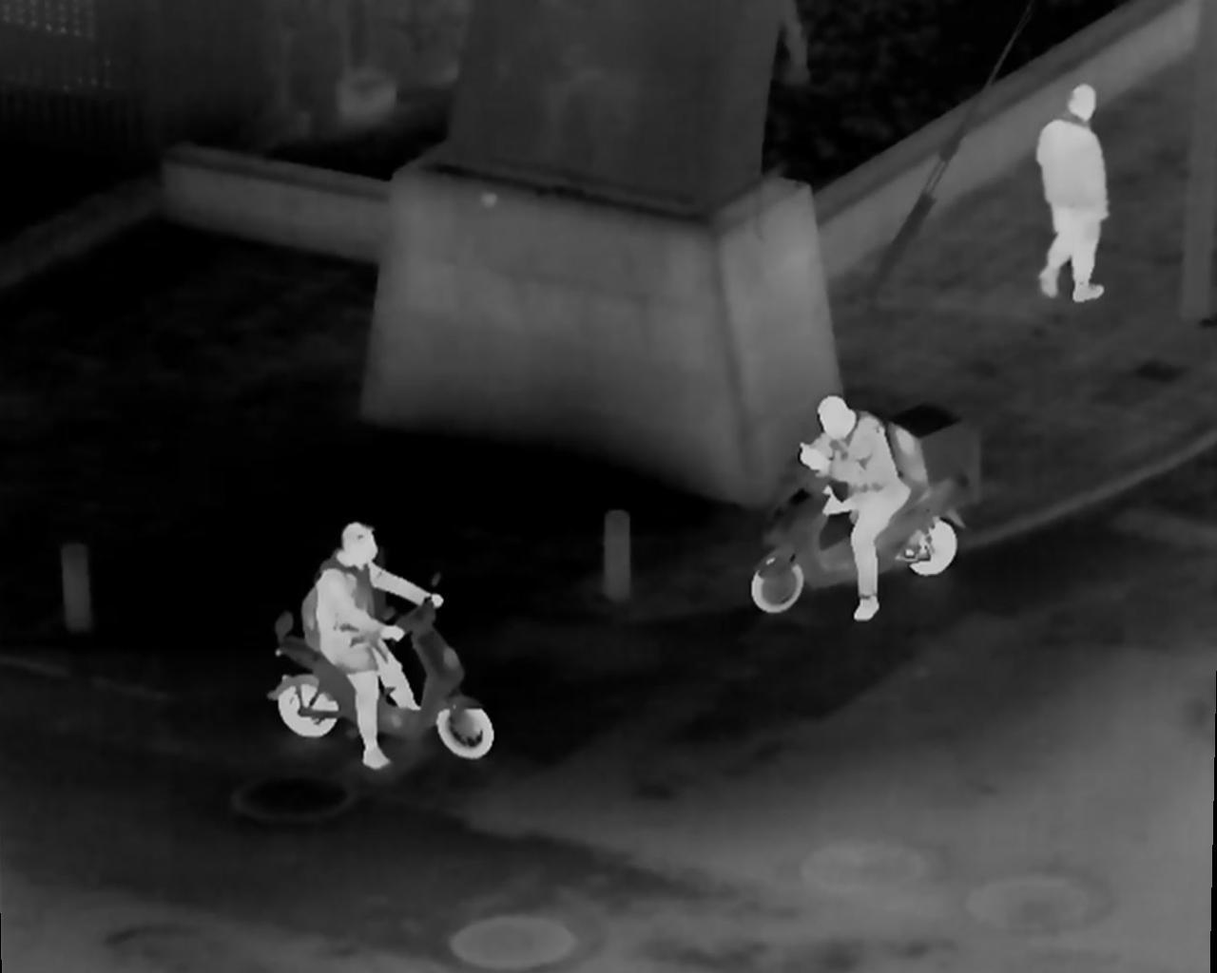person: (302, 512, 450, 752), (783, 385, 937, 610), (1024, 87, 1138, 295)
